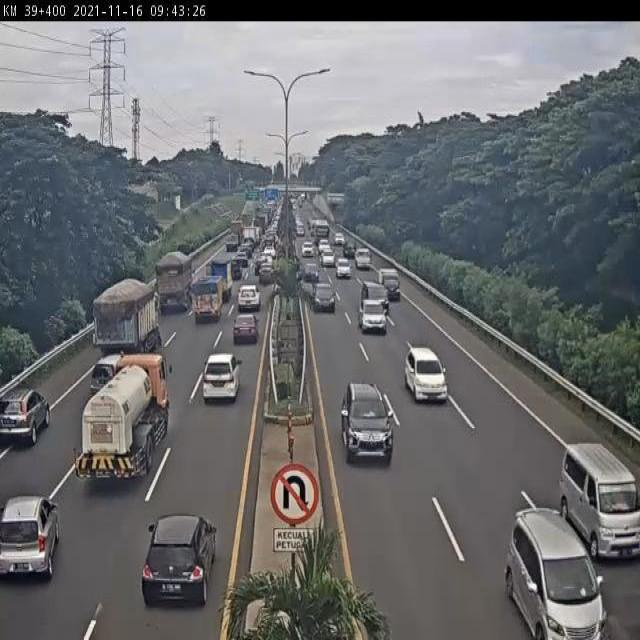car: (494, 490, 605, 640), (551, 428, 640, 573), (133, 504, 233, 616), (0, 481, 68, 587), (337, 378, 401, 470), (0, 368, 55, 467), (397, 342, 450, 406), (199, 348, 244, 413), (86, 340, 131, 400), (356, 298, 394, 342), (226, 313, 262, 355), (358, 279, 394, 317), (228, 286, 270, 318), (76, 321, 101, 363), (377, 262, 406, 298), (311, 274, 338, 310), (254, 258, 279, 290), (302, 253, 323, 283), (350, 244, 373, 268), (329, 248, 350, 273)
truck-l-: (92, 279, 162, 369), (154, 250, 195, 318)
truck-m-: (75, 351, 173, 489), (193, 274, 225, 326), (207, 259, 234, 304)
